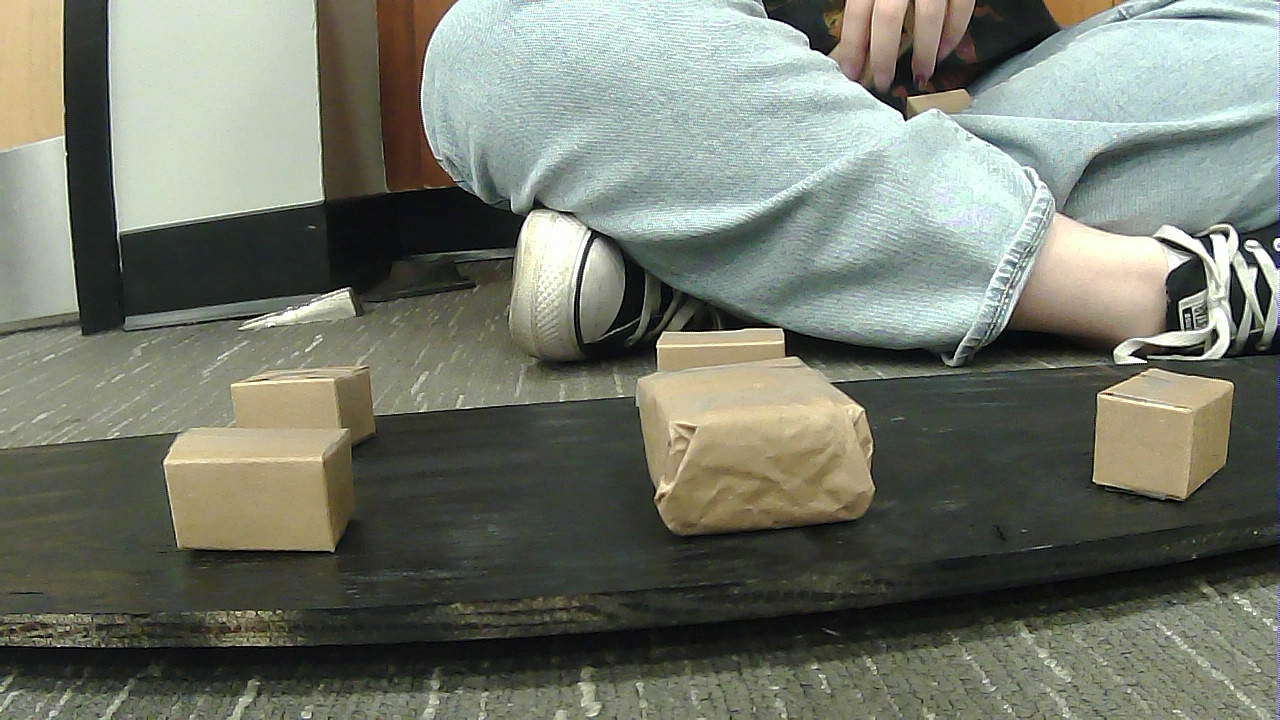package: (625, 368, 911, 531), (161, 419, 374, 552), (1071, 357, 1255, 498), (223, 352, 399, 457), (648, 316, 810, 414)
